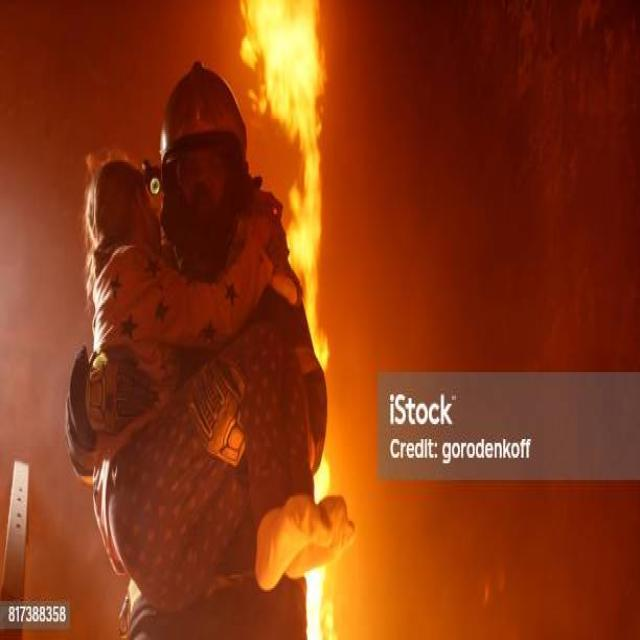Fire: (235, 0, 333, 370)
